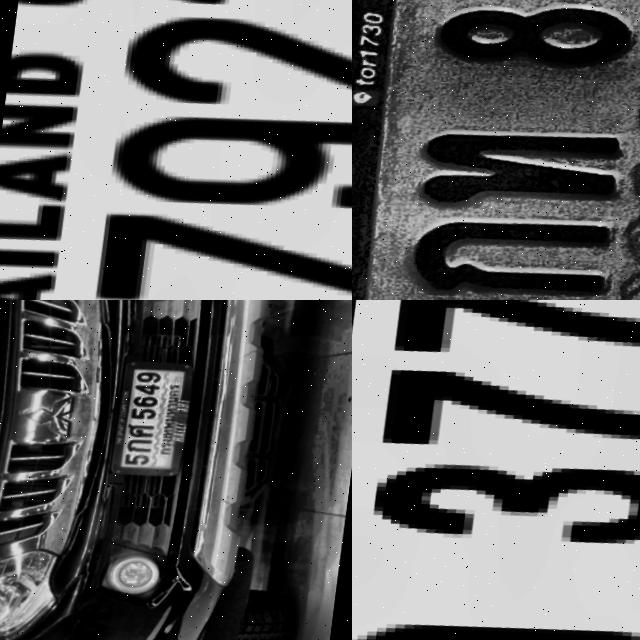license-plate: (0, 0, 352, 300), (352, 300, 640, 640), (352, 0, 640, 300), (109, 362, 195, 489)
